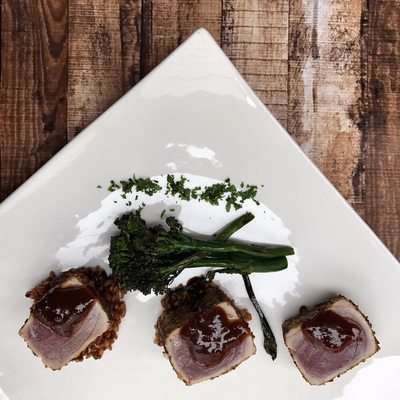curry: (107, 202, 292, 295)
sushi: (1, 17, 394, 400)
